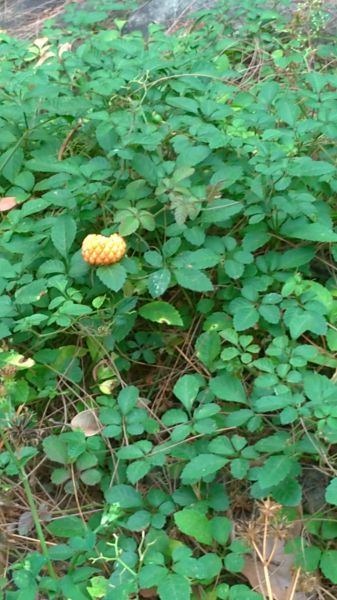eggs: (75, 228, 131, 270)
